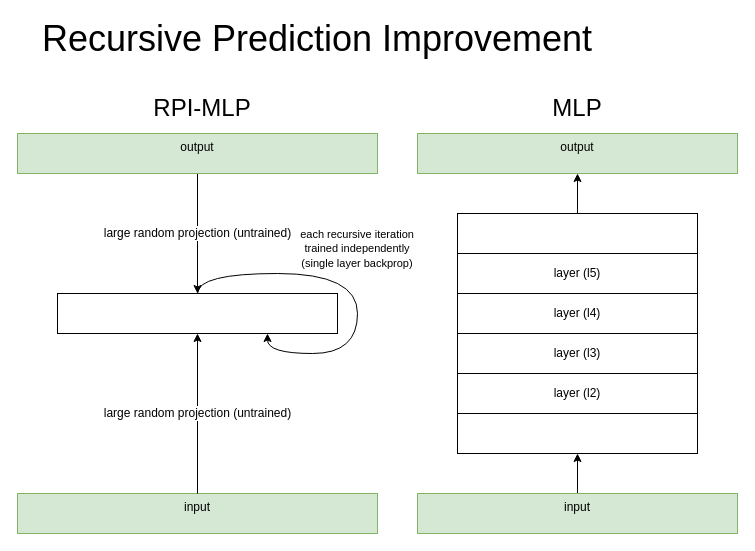
This 755x551 diagram has some shape labels left out. The centre of each missing label's shape, as x and y in pixels:
layer (l1): the point at 577,433
layer (l6): the point at 577,233
recursiveLayer (x6): the point at 197,313
